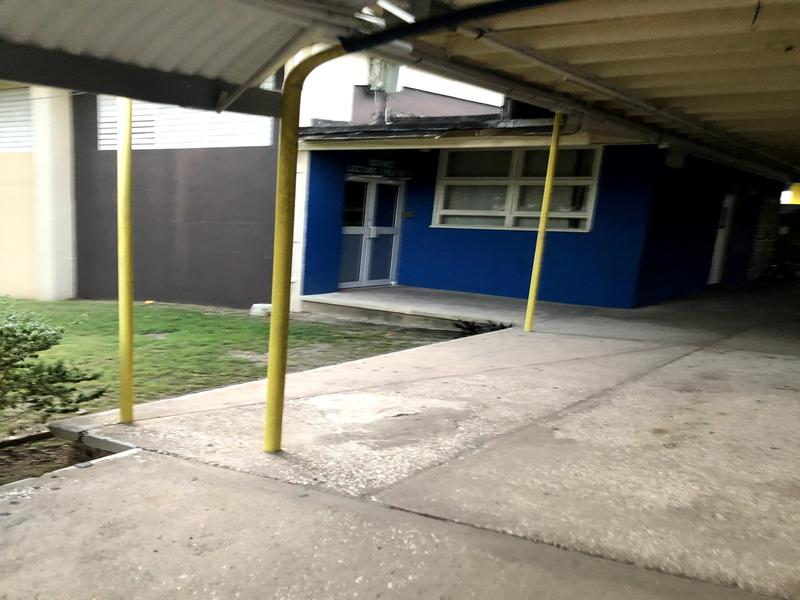18.0051836_-76.7497262_pclt1: (336, 163, 413, 303)
